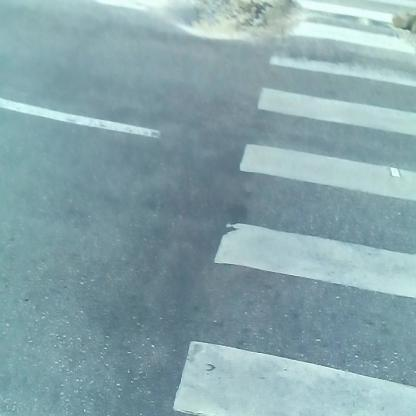crosswalk: (206, 8, 416, 416)
